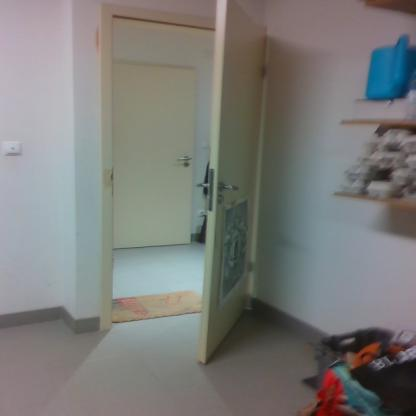semi: (91, 1, 273, 369)
